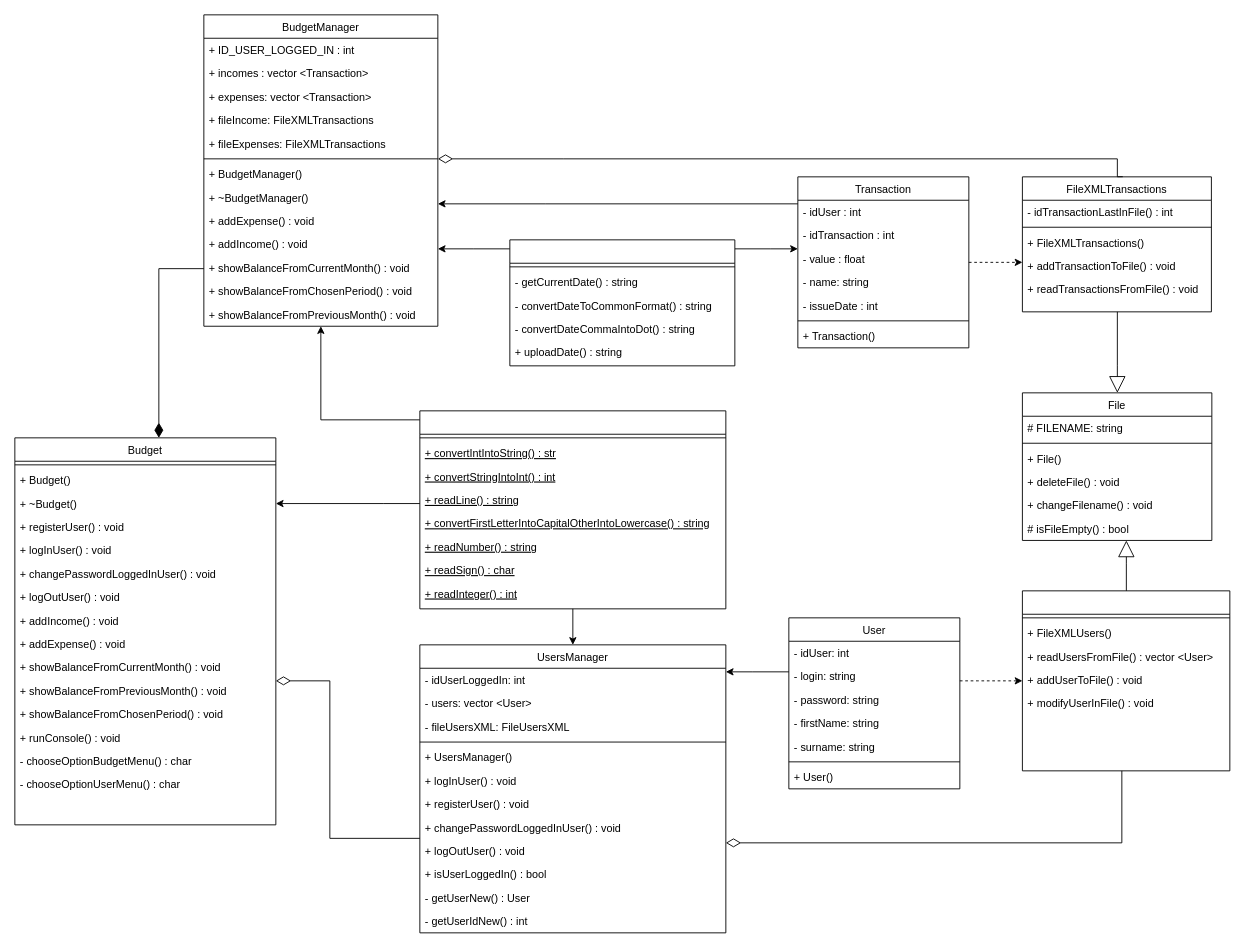
This 1245x948 diagram has some shape labels left out. Here are the shapes that lost their labels. From the top down, the box of each, then its label:
(509, 239, 735, 366): DateEditor
(419, 410, 726, 609): Utils
(1022, 590, 1230, 771): FileUsersXML
